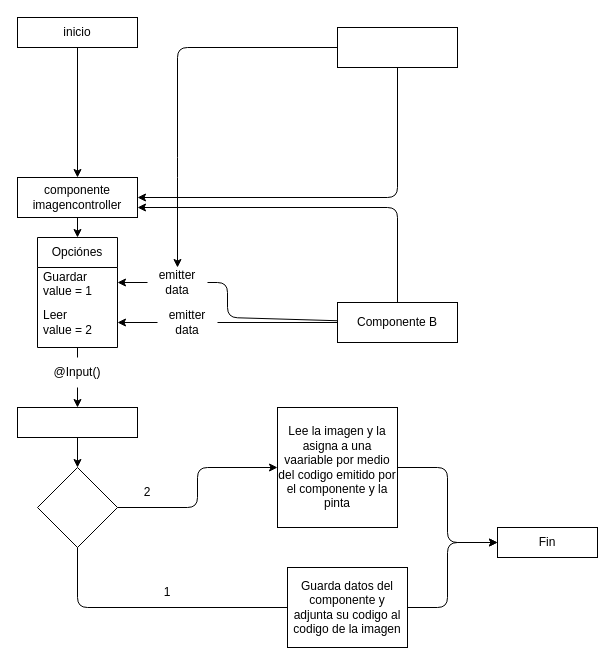
Image size: 615x665. Some labels were removed from this diagram. The shapes that lost their labels are listed below. From the top down, each one's centre as x and y in pixels, then its label:
At (397,47): "Componente A".
At (77,422): "ngOnChange".
At (77,507): "1 or 2".
